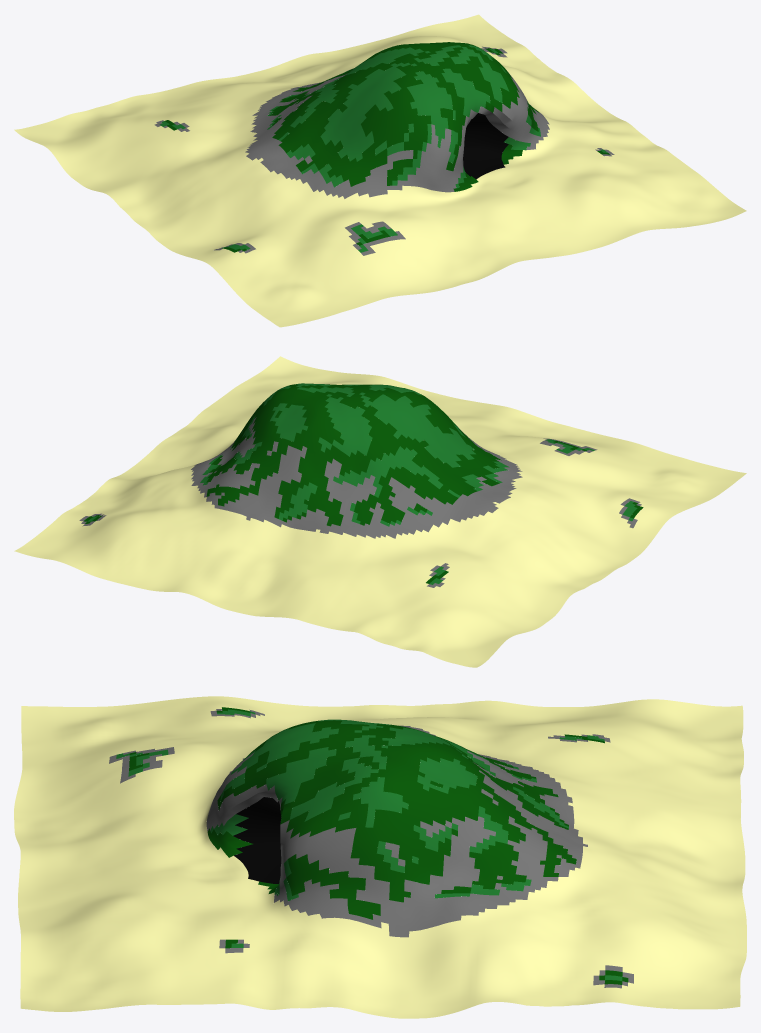
File: island.glb
3 renders of one model, top to bottom at view 1: azimuth 30°, elevation 25°; view 2: azimuth 150°, elevation 25°; view 3: azimuth 270°, elevation 25°, orthographic. The views are drawn at different scales.
Parts seen in each view (by area): view 1: island; view 2: island; view 3: island.
Part boxes in pixels (left/top/right/bottom): island: left=14, top=14, right=746, bottom=327; island: left=14, top=356, right=746, bottom=667; island: left=14, top=696, right=746, bottom=1018.
Size of the model in its own units: 20.43 by 4.58 by 20.41.
